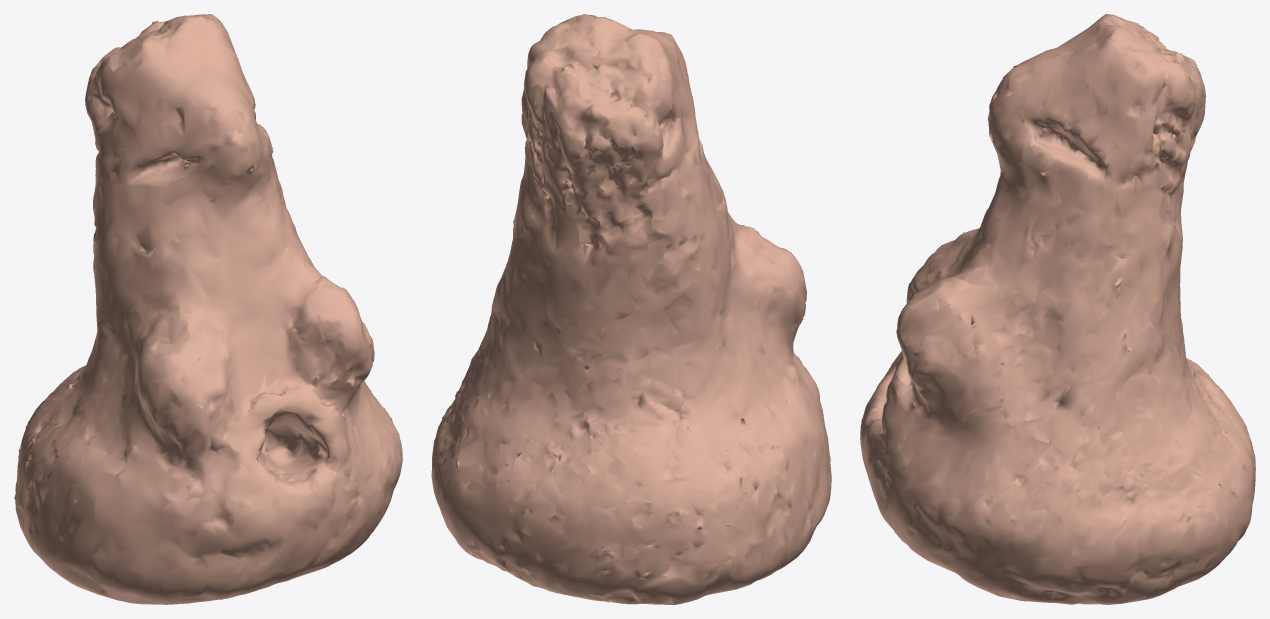
Rendered from wc-neolithic-clay-idol.glb.
The picture shows the model from 3 angles, left to right: view 1: azimuth 30°, elevation 25°; view 2: azimuth 150°, elevation 25°; view 3: azimuth 270°, elevation 25°; orthographic projection. The views are drawn at different scales.
Visible parts, largest first — view 1: wc-neolithic-clay-idol; view 2: wc-neolithic-clay-idol; view 3: wc-neolithic-clay-idol.
Boxes of the visible parts, <box> form: wc-neolithic-clay-idol: <box>14,14,402,604</box>; wc-neolithic-clay-idol: <box>431,14,831,604</box>; wc-neolithic-clay-idol: <box>860,14,1255,604</box>.
Bounding box in the file's own units: 0.0993 × 0.15 × 0.1013.
